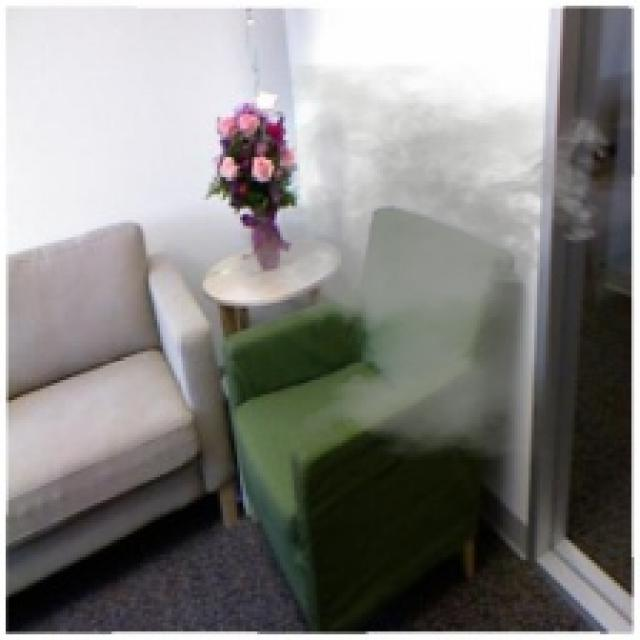smoke: (217, 63, 623, 460)
